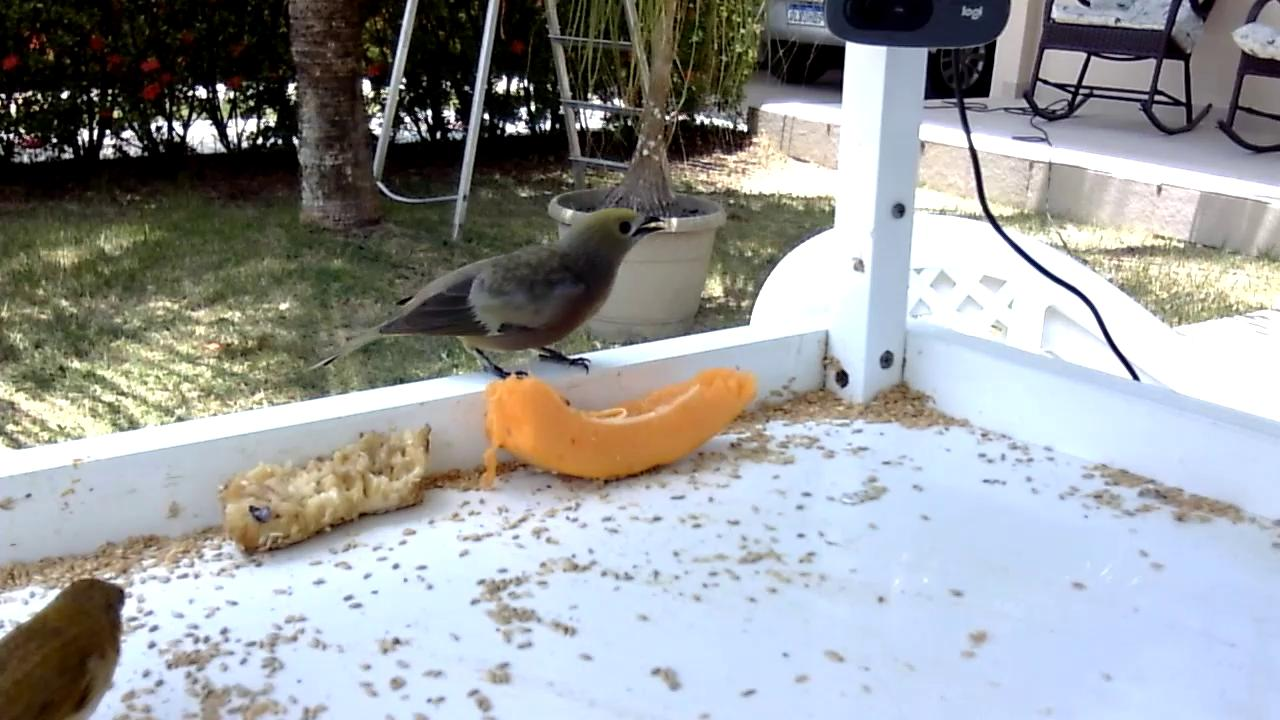canario_do_amazonas: (1, 577, 128, 720)
sanhaco_do_coqueiro: (307, 205, 669, 384)
